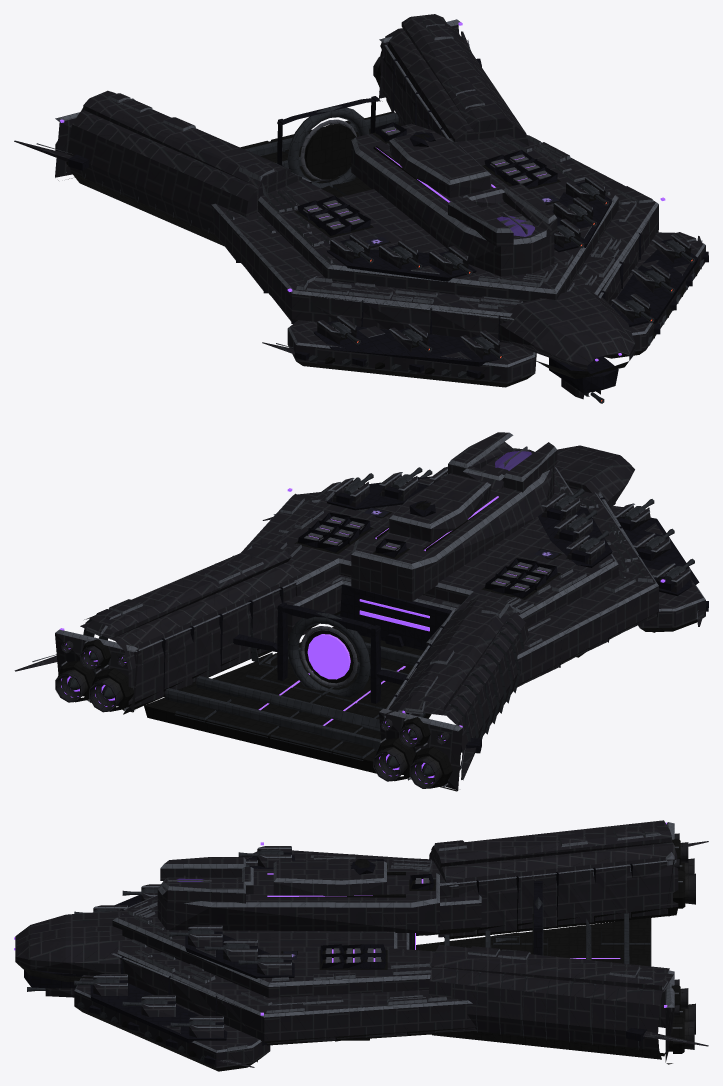
Rendered from eris-schiff8.glb.
3 views of the same model, one above another, from view 1: azimuth 30°, elevation 25°; view 2: azimuth 150°, elevation 25°; view 3: azimuth 270°, elevation 25° (orthographic). The views are drawn at different scales.
Parts seen in each view (by area): view 1: Hull_LOD0; view 2: Hull_LOD0; view 3: Hull_LOD0.
Part boxes in pixels (<box>): Hull_LOD0: <box>14,14,708,399</box>; Hull_LOD0: <box>14,432,708,791</box>; Hull_LOD0: <box>14,820,708,1071</box>.
Bounding box in the file's own units: 77.08 × 22.86 × 110.
Materials: 6 (4 with a texture image).
